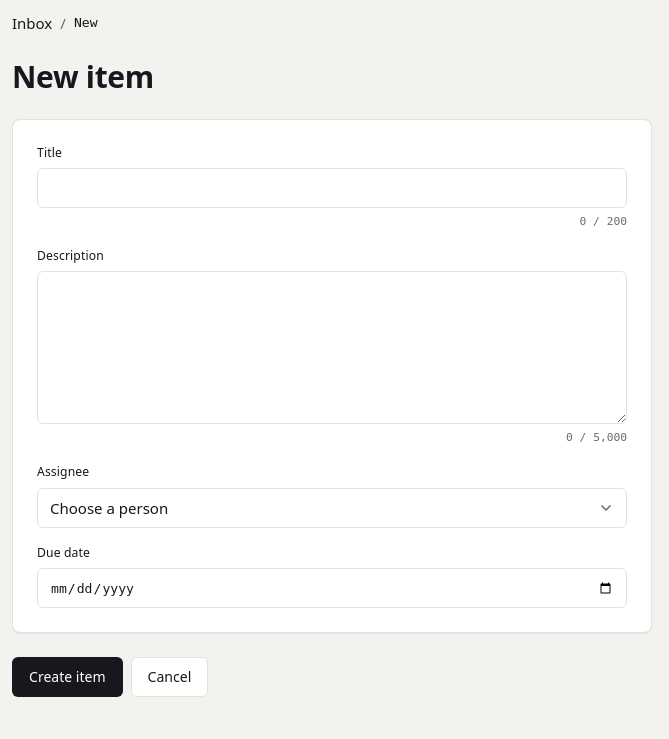
Scenario: item form › shows server validation errors and keeps every value typed
This screenshot has width=669, height=739.
In the field labelled "Title": [332, 188] box x1=37 y1=168 x2=627 y2=208, type "Patch nginx"
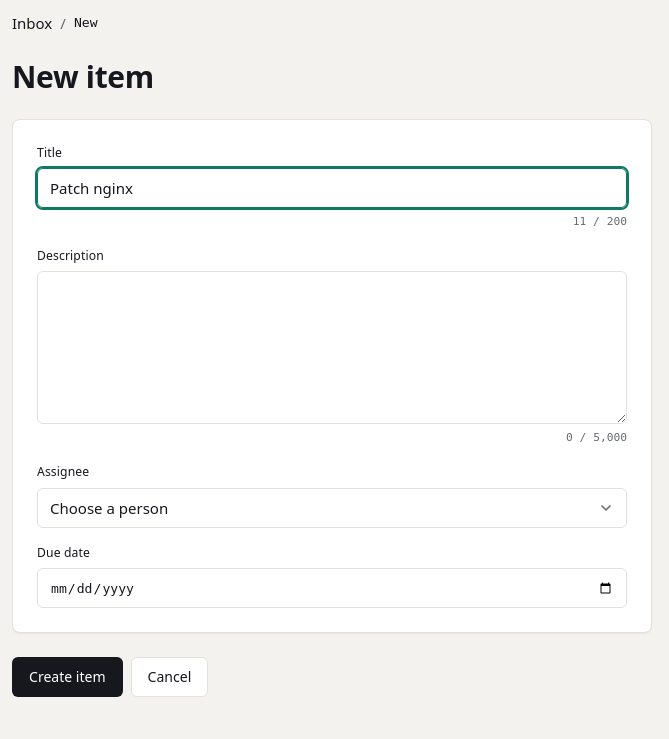
In the text box labelled "Description": [332, 348] box x1=37 y1=271 x2=627 y2=424, type "CVE-2026-0001 on edge"
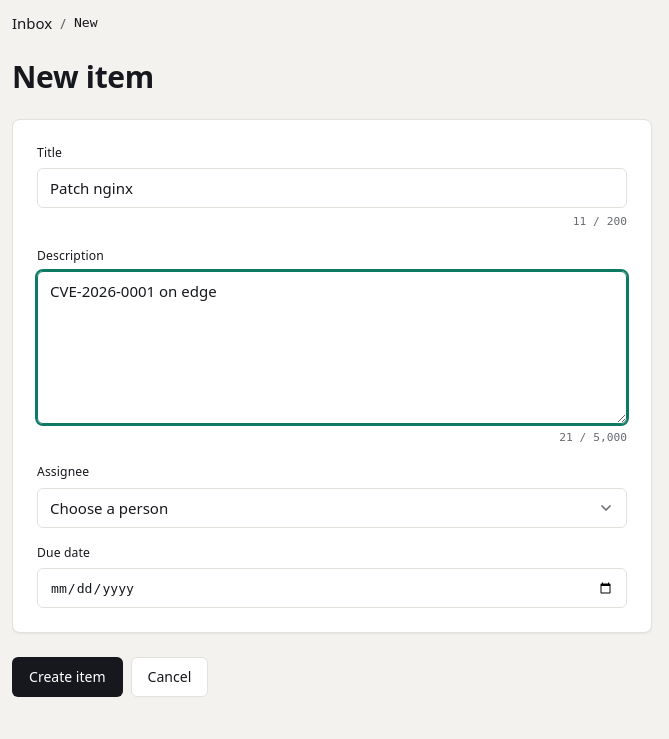
Select "Sam Patel · Member" in the dropdown labelled "Assignee": [332, 508] box x1=37 y1=488 x2=627 y2=528
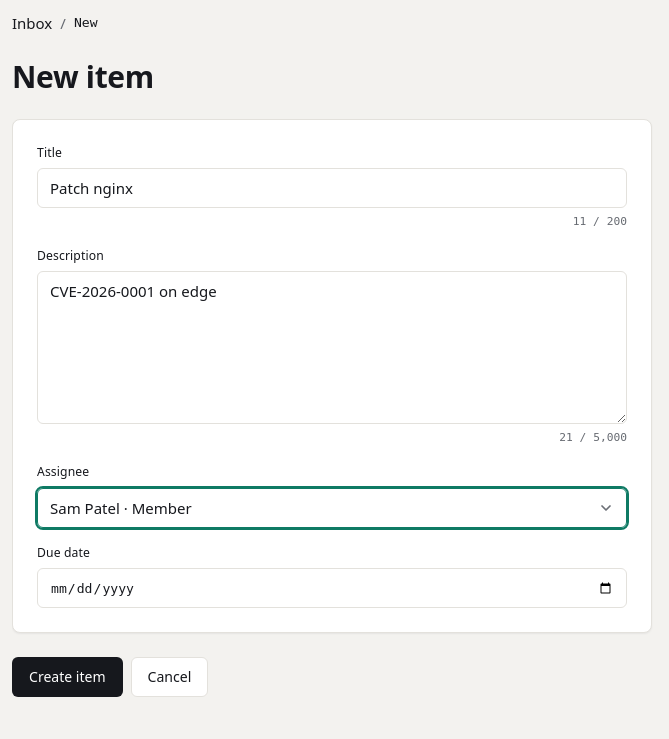
In the date field labelled "Due date": [332, 588] box x1=37 y1=568 x2=627 y2=608, type "2026-11-01"
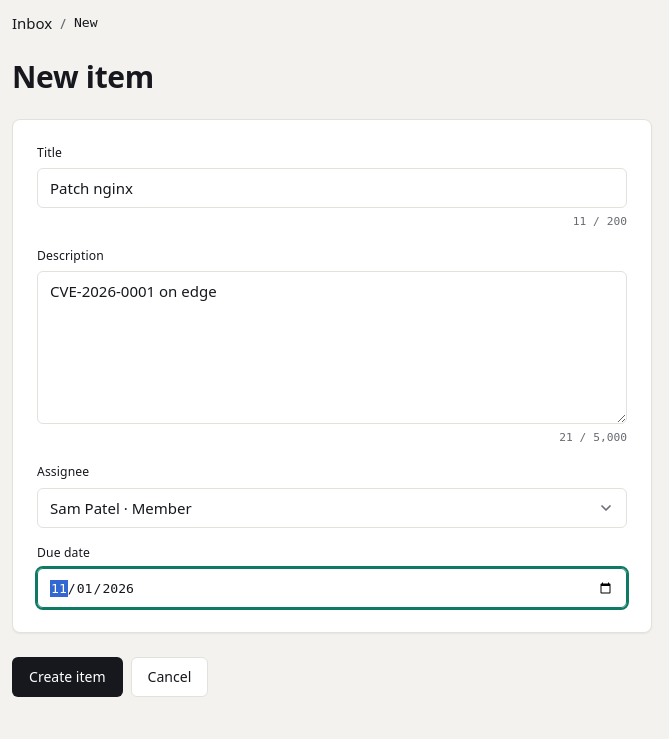
Click the button "Create item": [67, 677] box x1=12 y1=657 x2=123 y2=697
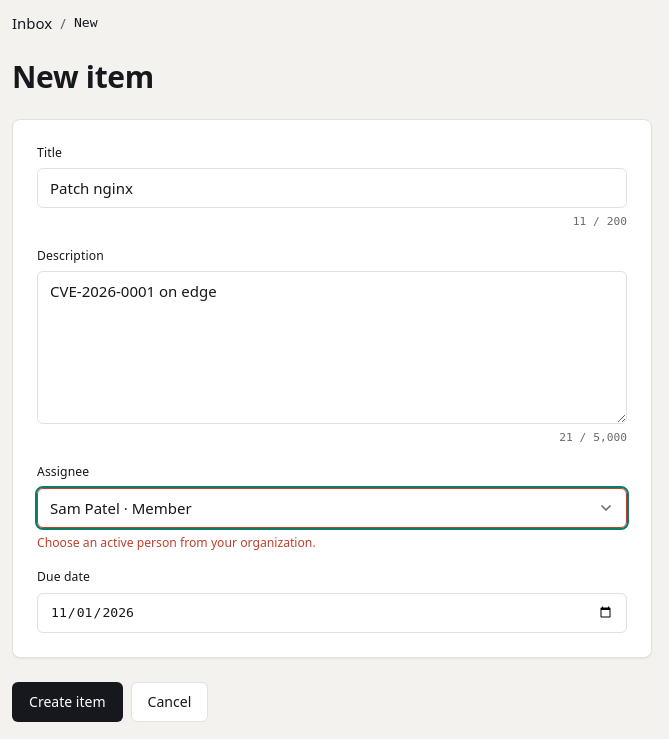
expect the button "Create item" is enabled: met, box x1=12 y1=682 x2=123 y2=722
expect the text "Choose an active person from your organization." is shown: met, box x1=37 y1=534 x2=316 y2=552
